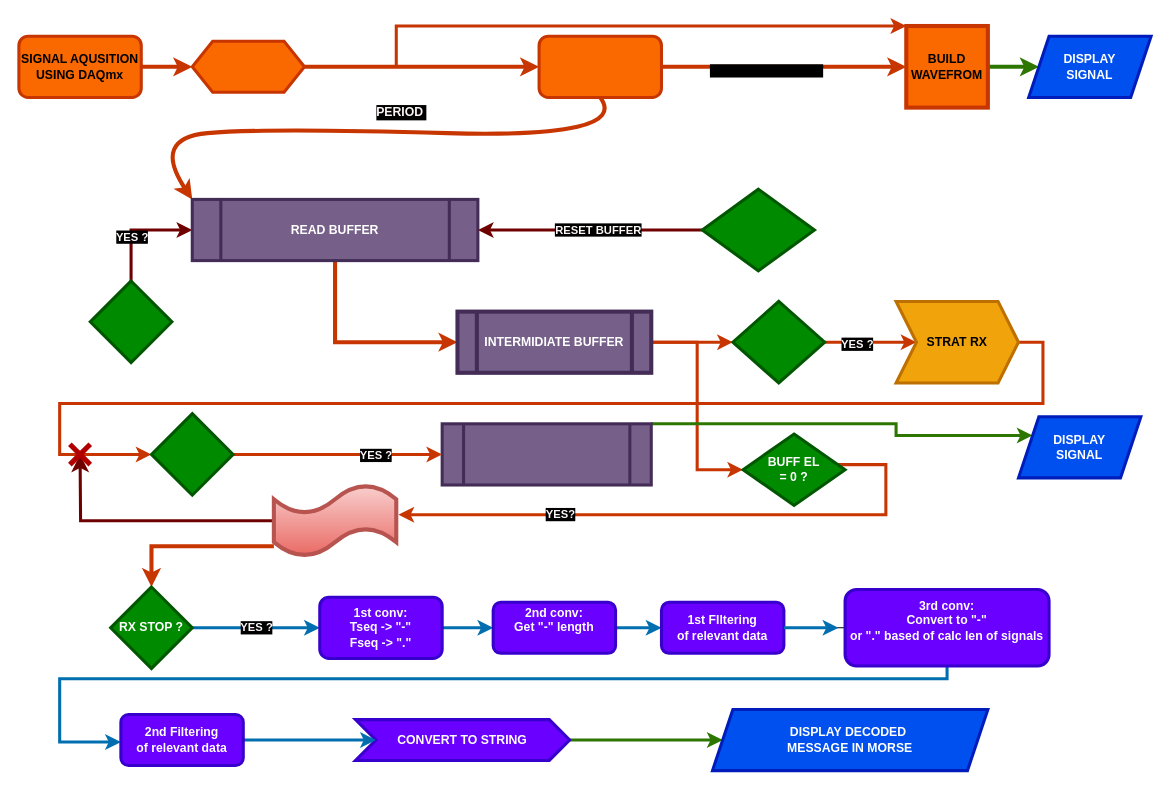
Some shapes in this 1170 by 789 pixel diagram are drawn without their labels. The centre of each missing label's shape, as x and y in pixels:
"BUFF SIZE >= 500" goes at [757,229].
"CALCUATE SIGNAL PERIOD LENGTH" goes at [599,66].
"EN RX" goes at [130,321].
"FIRST EL != 0" goes at [778,341].
"MESSAGE ARRAY" goes at [546,454].
"RX ON?" goes at [191,454].
"STOP TX" goes at [334,520].
"TAKE SAMPLE" goes at [247,66].
